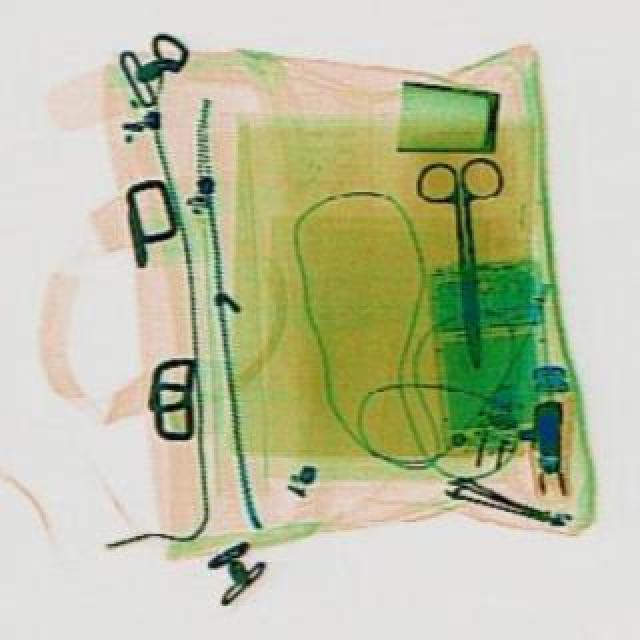pliers: (410, 154, 516, 370)
